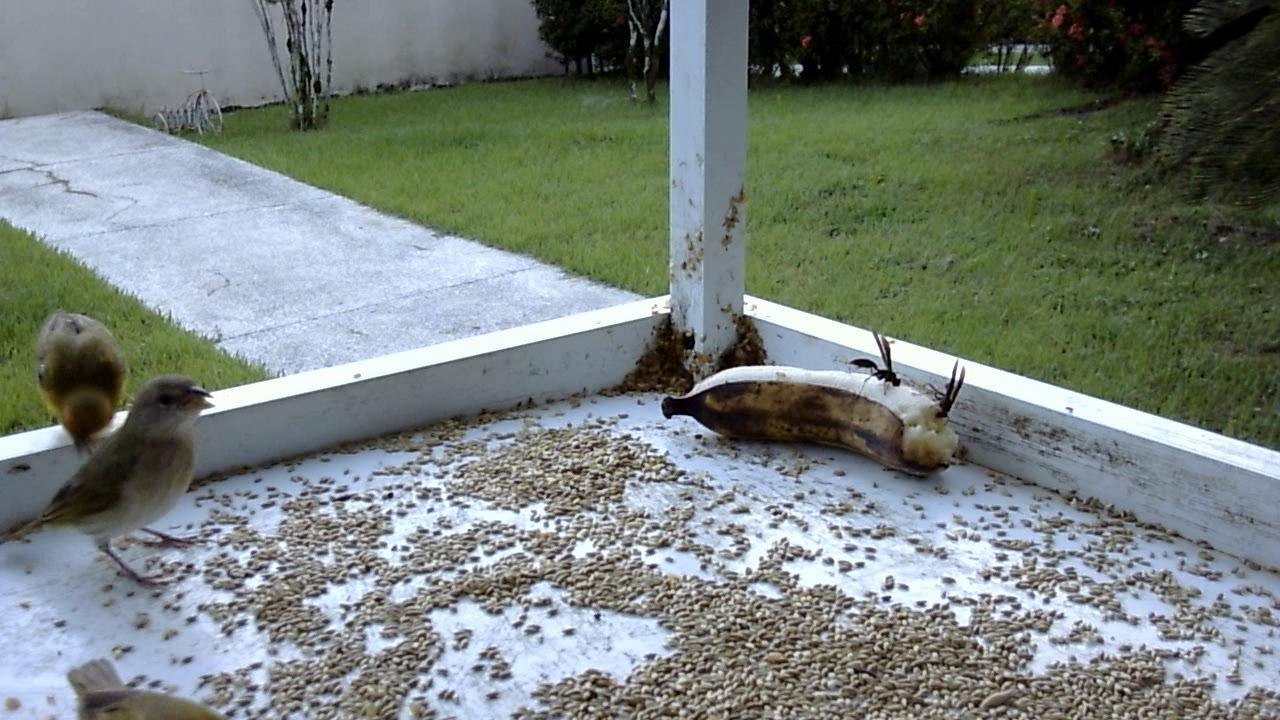canario_do_amazonas: (6, 376, 230, 601), (26, 304, 137, 464)
